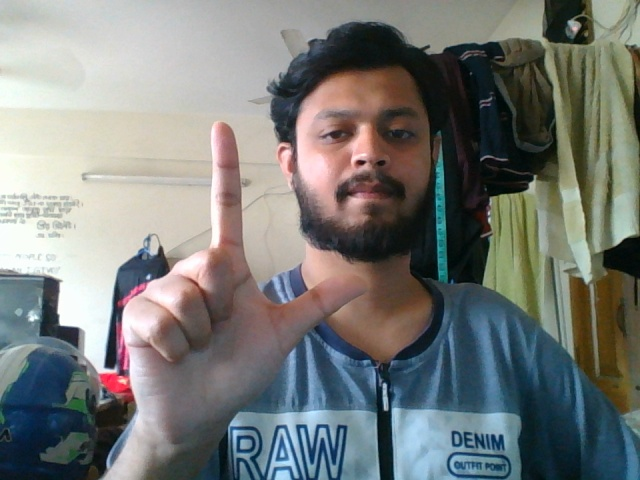la: (108, 120, 367, 480)
